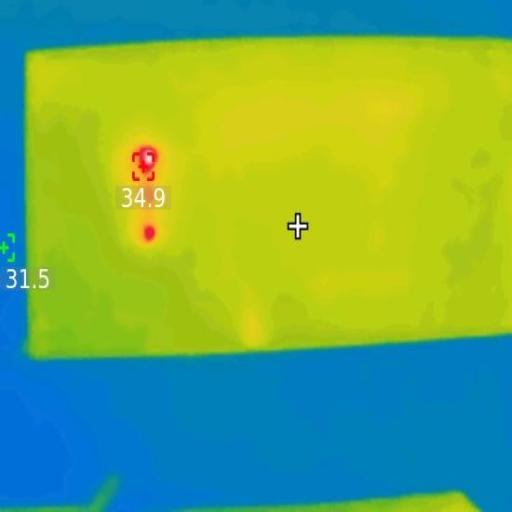hotspot: (135, 146, 161, 176), (145, 226, 158, 246)
